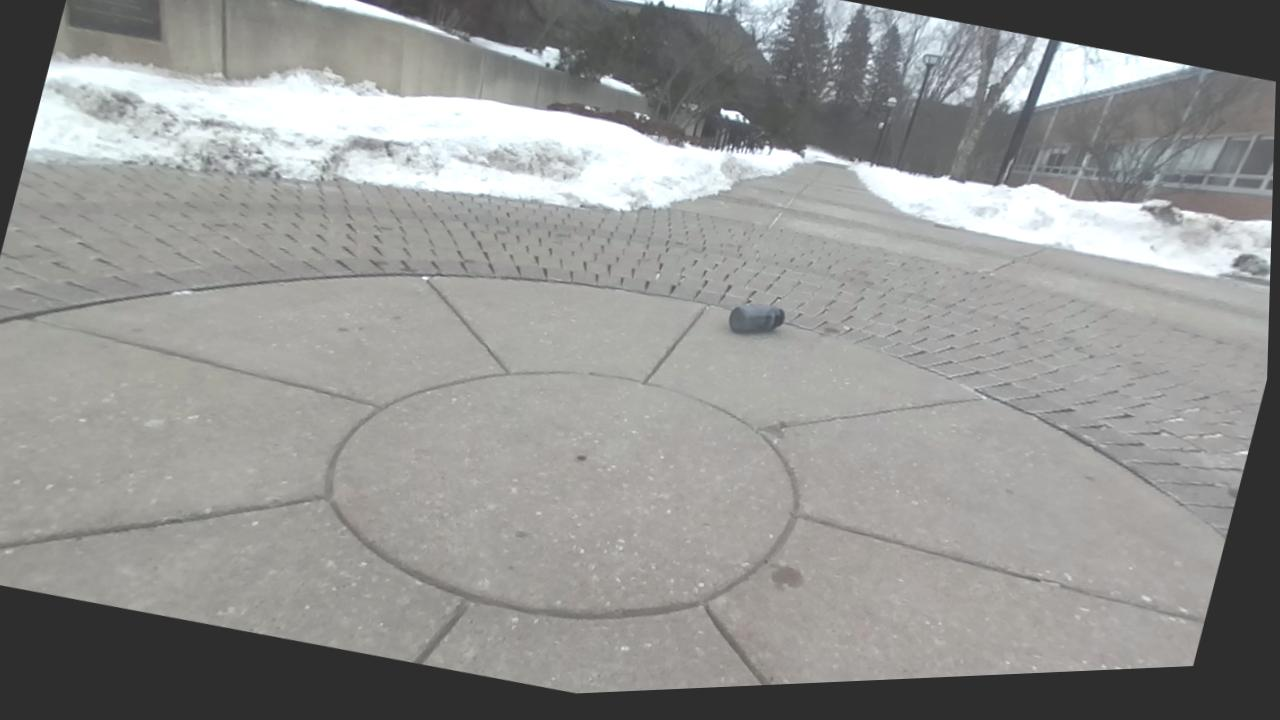bottle: (728, 302, 785, 333)
